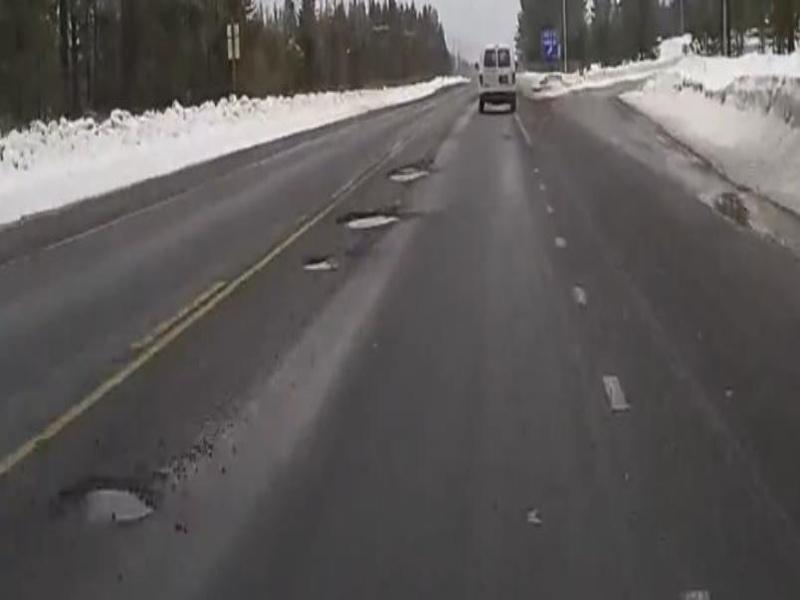pothole: (53, 475, 157, 529), (336, 207, 403, 232), (382, 163, 436, 187), (300, 257, 336, 273)
